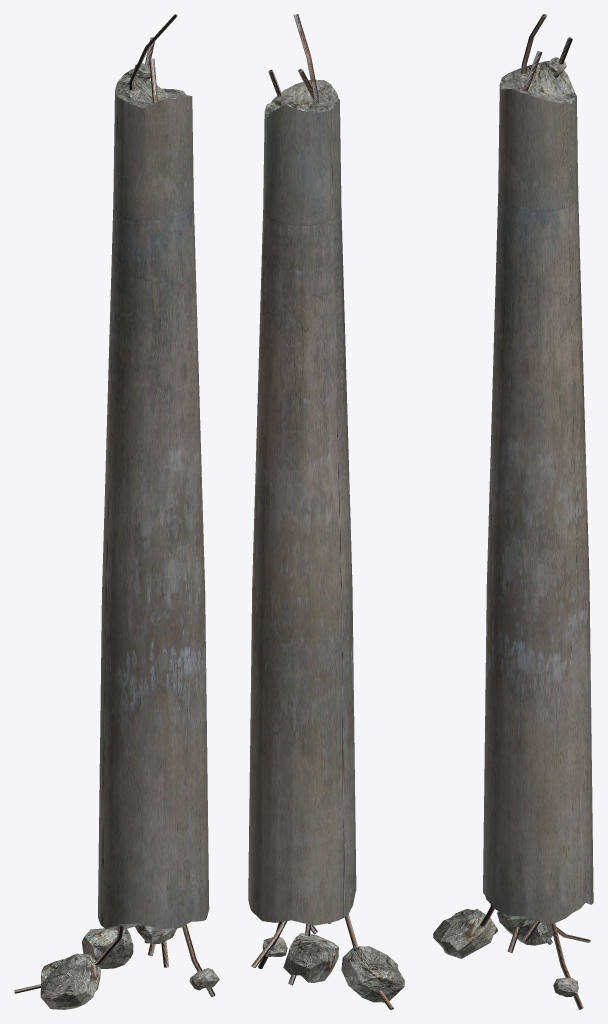
File: RoadLamp3_2d.FBX
3 renders of one model, left to right at view 1: azimuth 30°, elevation 25°; view 2: azimuth 150°, elevation 25°; view 3: azimuth 330°, elevation 25°, orthographic. The views are drawn at different scales.
Visible parts, largest first — view 1: LampPillar, Debris; view 2: LampPillar, Debris; view 3: LampPillar, Debris.
Boxes of the visible parts, box(x1,y1,x2,y2) form: LampPillar: box(98, 68, 209, 930); Debris: box(14, 14, 219, 1009); LampPillar: box(248, 79, 356, 925); Debris: box(251, 14, 404, 1009); LampPillar: box(483, 61, 593, 923); Debris: box(433, 14, 590, 1009).
Size of the model in its own units: 12.72 by 70.82 by 7.39.
